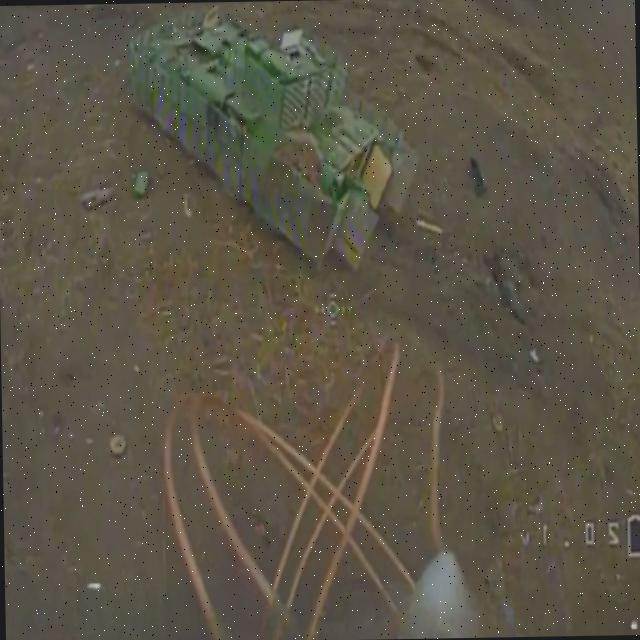APC: (125, 6, 408, 283)
